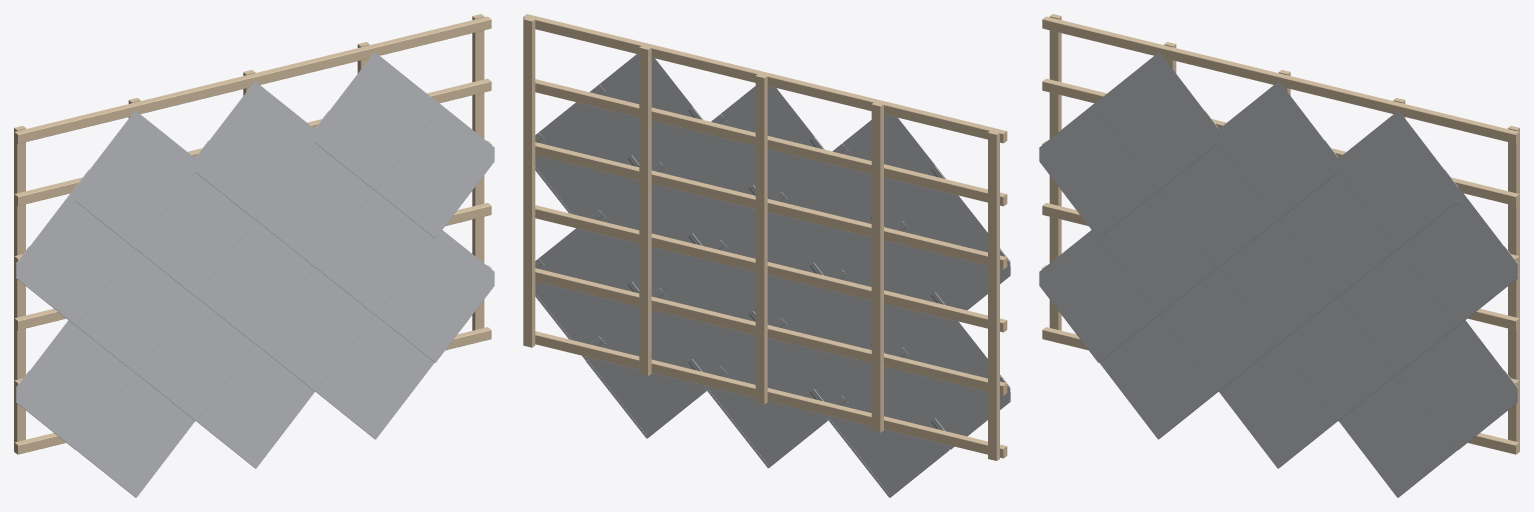
File: Petal_Kvadrat_KV1_Fasade_Lekter.glb
3 renders of one model, left to right at view 1: azimuth 30°, elevation 25°; view 2: azimuth 150°, elevation 25°; view 3: azimuth 330°, elevation 25°, orthographic.
Visible parts, largest first — view 1: KV1_Tile_1, KV1_Tile_3, KV1_Tile_2, KV1_Tile_4, KV1_Tile_7, KV1_Tile_11, KV1_Tile_14, KV1_Tile_6, KV1_Tile_5, KV1_Tile_10, KV1_Tile_13, KV1_Tile_16 (+11 smaller); view 2: KV1_Tile_16, KV1_Tile_17, KV1_Tile_15, KV1_Tile_14, KV1_Tile_7, KV1_Tile_11, KV1_Tile_4, KV1_Tile_13, KV1_Tile_6, Trelekt_1, KV1_Tile_12, KV1_Tile_5 (+16 smaller); view 3: KV1_Tile_3, KV1_Tile_1, KV1_Tile_2, KV1_Tile_7, KV1_Tile_4, KV1_Tile_14, KV1_Tile_11, KV1_Tile_5, KV1_Tile_6, KV1_Tile_8, KV1_Tile_12, KV1_Tile_16 (+11 smaller).
Boxes of the visible parts, x1,y1,x2,y2 form: KV1_Tile_1: [76, 110, 195, 249]; KV1_Tile_3: [315, 52, 434, 190]; KV1_Tile_2: [195, 81, 315, 219]; KV1_Tile_4: [16, 187, 135, 325]; KV1_Tile_7: [376, 99, 494, 238]; KV1_Tile_11: [16, 320, 135, 450]; KV1_Tile_14: [376, 230, 494, 362]; KV1_Tile_6: [256, 129, 374, 267]; KV1_Tile_5: [136, 158, 254, 296]; KV1_Tile_10: [316, 191, 434, 315]; KV1_Tile_13: [256, 267, 374, 391]; KV1_Tile_16: [196, 344, 314, 468]; KV1_Tile_16: [707, 338, 828, 468]; KV1_Tile_17: [586, 306, 706, 438]; KV1_Tile_15: [828, 366, 949, 497]; KV1_Tile_14: [535, 228, 639, 360]; KV1_Tile_7: [535, 102, 639, 217]; KV1_Tile_11: [893, 317, 1010, 449]; KV1_Tile_4: [893, 191, 1010, 310]; KV1_Tile_13: [651, 258, 755, 389]; KV1_Tile_6: [651, 132, 755, 247]; Trelekt_1: [523, 14, 1007, 143]; KV1_Tile_12: [772, 287, 885, 419]; KV1_Tile_5: [772, 161, 885, 277]; KV1_Tile_3: [1338, 110, 1457, 249]; KV1_Tile_1: [1099, 52, 1218, 190]; KV1_Tile_2: [1218, 81, 1338, 219]; KV1_Tile_7: [1398, 187, 1517, 325]; KV1_Tile_4: [1039, 99, 1157, 238]; KV1_Tile_14: [1398, 320, 1517, 450]; KV1_Tile_11: [1039, 230, 1157, 362]; KV1_Tile_5: [1159, 129, 1277, 267]; KV1_Tile_6: [1279, 158, 1397, 296]; KV1_Tile_8: [1099, 191, 1217, 315]; KV1_Tile_12: [1159, 267, 1277, 391]; KV1_Tile_16: [1219, 344, 1337, 468].
Bounding box in the file's own units: 2.51 × 1.96 × 0.0772.
